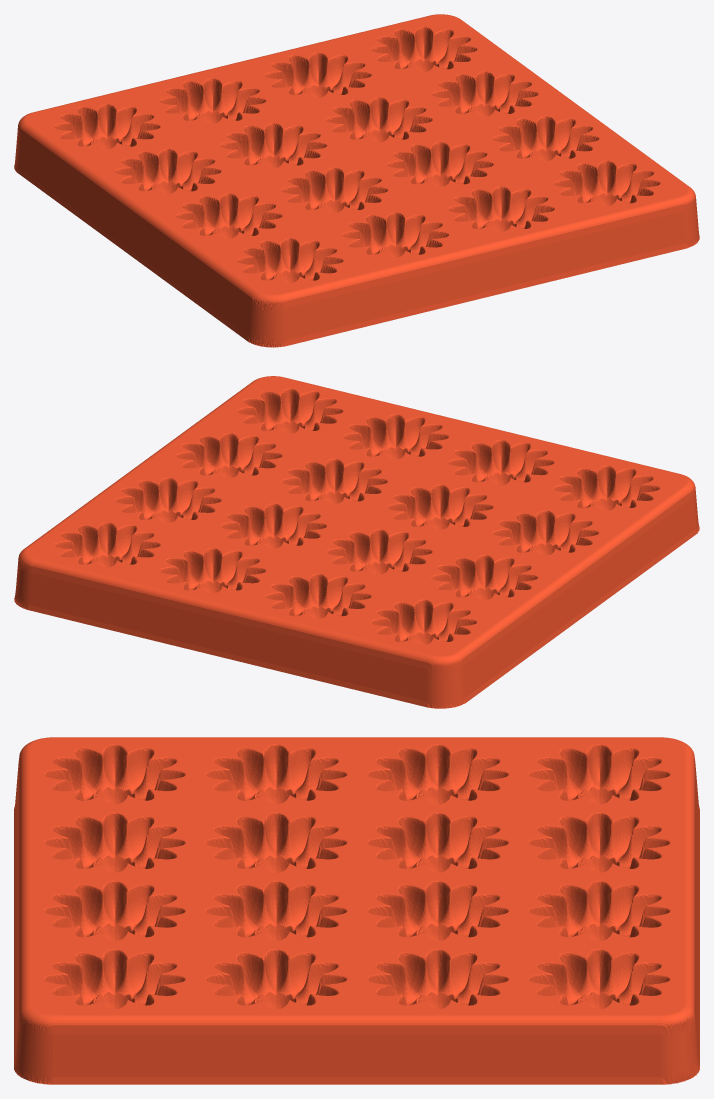
Rendered from mold.glb.
The picture shows the model from 3 angles, top to bottom: view 1: azimuth 30°, elevation 25°; view 2: azimuth 150°, elevation 25°; view 3: azimuth 270°, elevation 25°; orthographic projection. The views are drawn at different scales.
Parts seen in each view (by area): view 1: geometry_0; view 2: geometry_0; view 3: geometry_0.
Part boxes in pixels (bbox=[...]): geometry_0: bbox=[14, 14, 699, 347]; geometry_0: bbox=[14, 376, 699, 708]; geometry_0: bbox=[14, 737, 699, 1084].
Bounding box in the file's own units: 0.1569 × 0.0159 × 0.1569.
